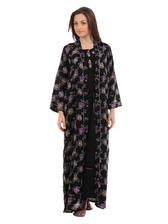clothoes: (48, 41, 127, 214)
